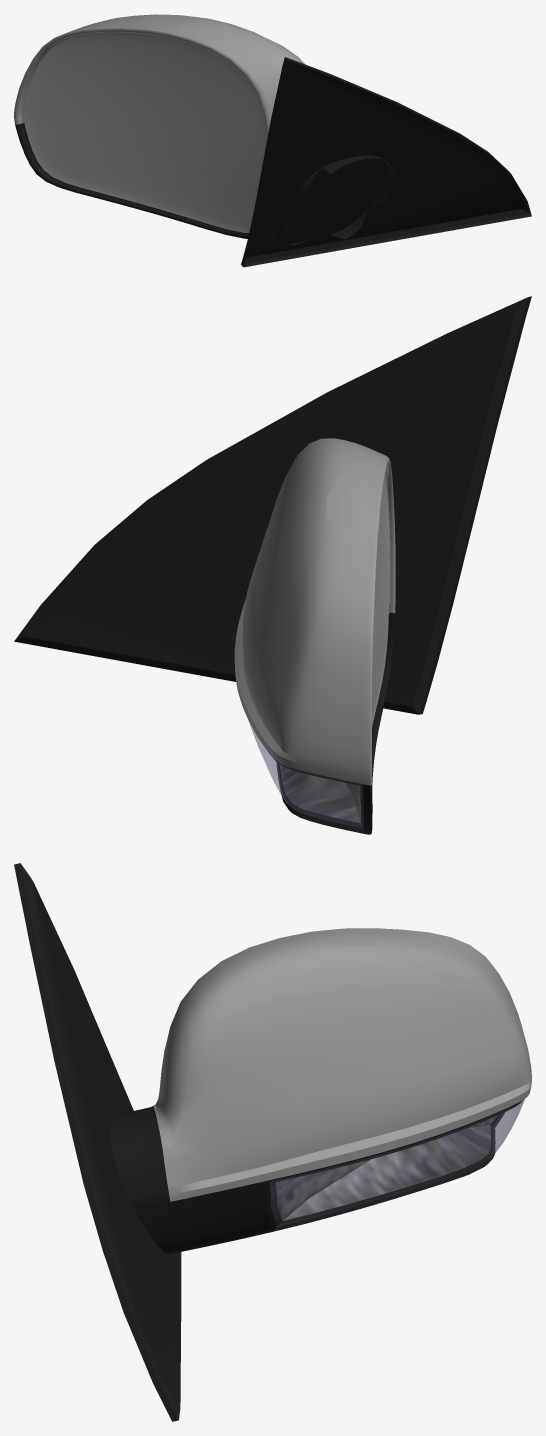
The picture shows the model from 3 angles, top to bottom: view 1: azimuth 30°, elevation 25°; view 2: azimuth 150°, elevation 25°; view 3: azimuth 270°, elevation 25°; orthographic projection. The views are drawn at different scales.
Parts seen in each view (by area): view 1: X6164_20_261I_L_X6164_20_261I_L_3_D, X6164_20_261I_L_X6164_20_261I_L_5_DTaSI, X6164_20_261I_L_1_DaS_X6164_20_261I_L, X6164_20_261I_L_1_DaS_X6164_20_261I_L_E; view 2: X6164_20_261I_L_X6164_20_261I_L_3_D, X6164_20_261I_L_1_DaS_X6164_20_261I_L, X6164_20_261I_L_1_DaS_X6164_20_261I_L_E, X6164_20_261I_L_X6164_20_261I_L_4_DTaSI, X6164_20_261I_L_X6164_20_261I_L_2_N, X6164_20_261I_L_X6164_20_261I_L_5_DTaSI; view 3: X6164_20_261I_L_1_DaS_X6164_20_261I_L, X6164_20_261I_L_X6164_20_261I_L_3_D, X6164_20_261I_L_X6164_20_261I_L_4_DTaSI, X6164_20_261I_L_X6164_20_261I_L_2_N, X6164_20_261I_L_1_DaS_X6164_20_261I_L_E.
Part boxes in pixels (x1,y1,x2,y2): X6164_20_261I_L_X6164_20_261I_L_3_D: (15,57,531,267); X6164_20_261I_L_X6164_20_261I_L_5_DTaSI: (23,32,267,232); X6164_20_261I_L_1_DaS_X6164_20_261I_L: (14,14,305,135); X6164_20_261I_L_1_DaS_X6164_20_261I_L_E: (112,14,193,30); X6164_20_261I_L_X6164_20_261I_L_3_D: (14,296,531,834); X6164_20_261I_L_1_DaS_X6164_20_261I_L: (235,438,395,785); X6164_20_261I_L_1_DaS_X6164_20_261I_L_E: (234,476,380,762); X6164_20_261I_L_X6164_20_261I_L_4_DTaSI: (249,722,362,828); X6164_20_261I_L_X6164_20_261I_L_2_N: (279,765,360,823); X6164_20_261I_L_X6164_20_261I_L_5_DTaSI: (372,475,389,726); X6164_20_261I_L_1_DaS_X6164_20_261I_L: (153,928,531,1201); X6164_20_261I_L_X6164_20_261I_L_3_D: (14,863,523,1421); X6164_20_261I_L_X6164_20_261I_L_4_DTaSI: (269,1099,524,1226); X6164_20_261I_L_X6164_20_261I_L_2_N: (275,1116,496,1220); X6164_20_261I_L_1_DaS_X6164_20_261I_L_E: (168,928,531,1195).
Bounding box in the file's own units: 37.62 × 25.8 × 33.35.
